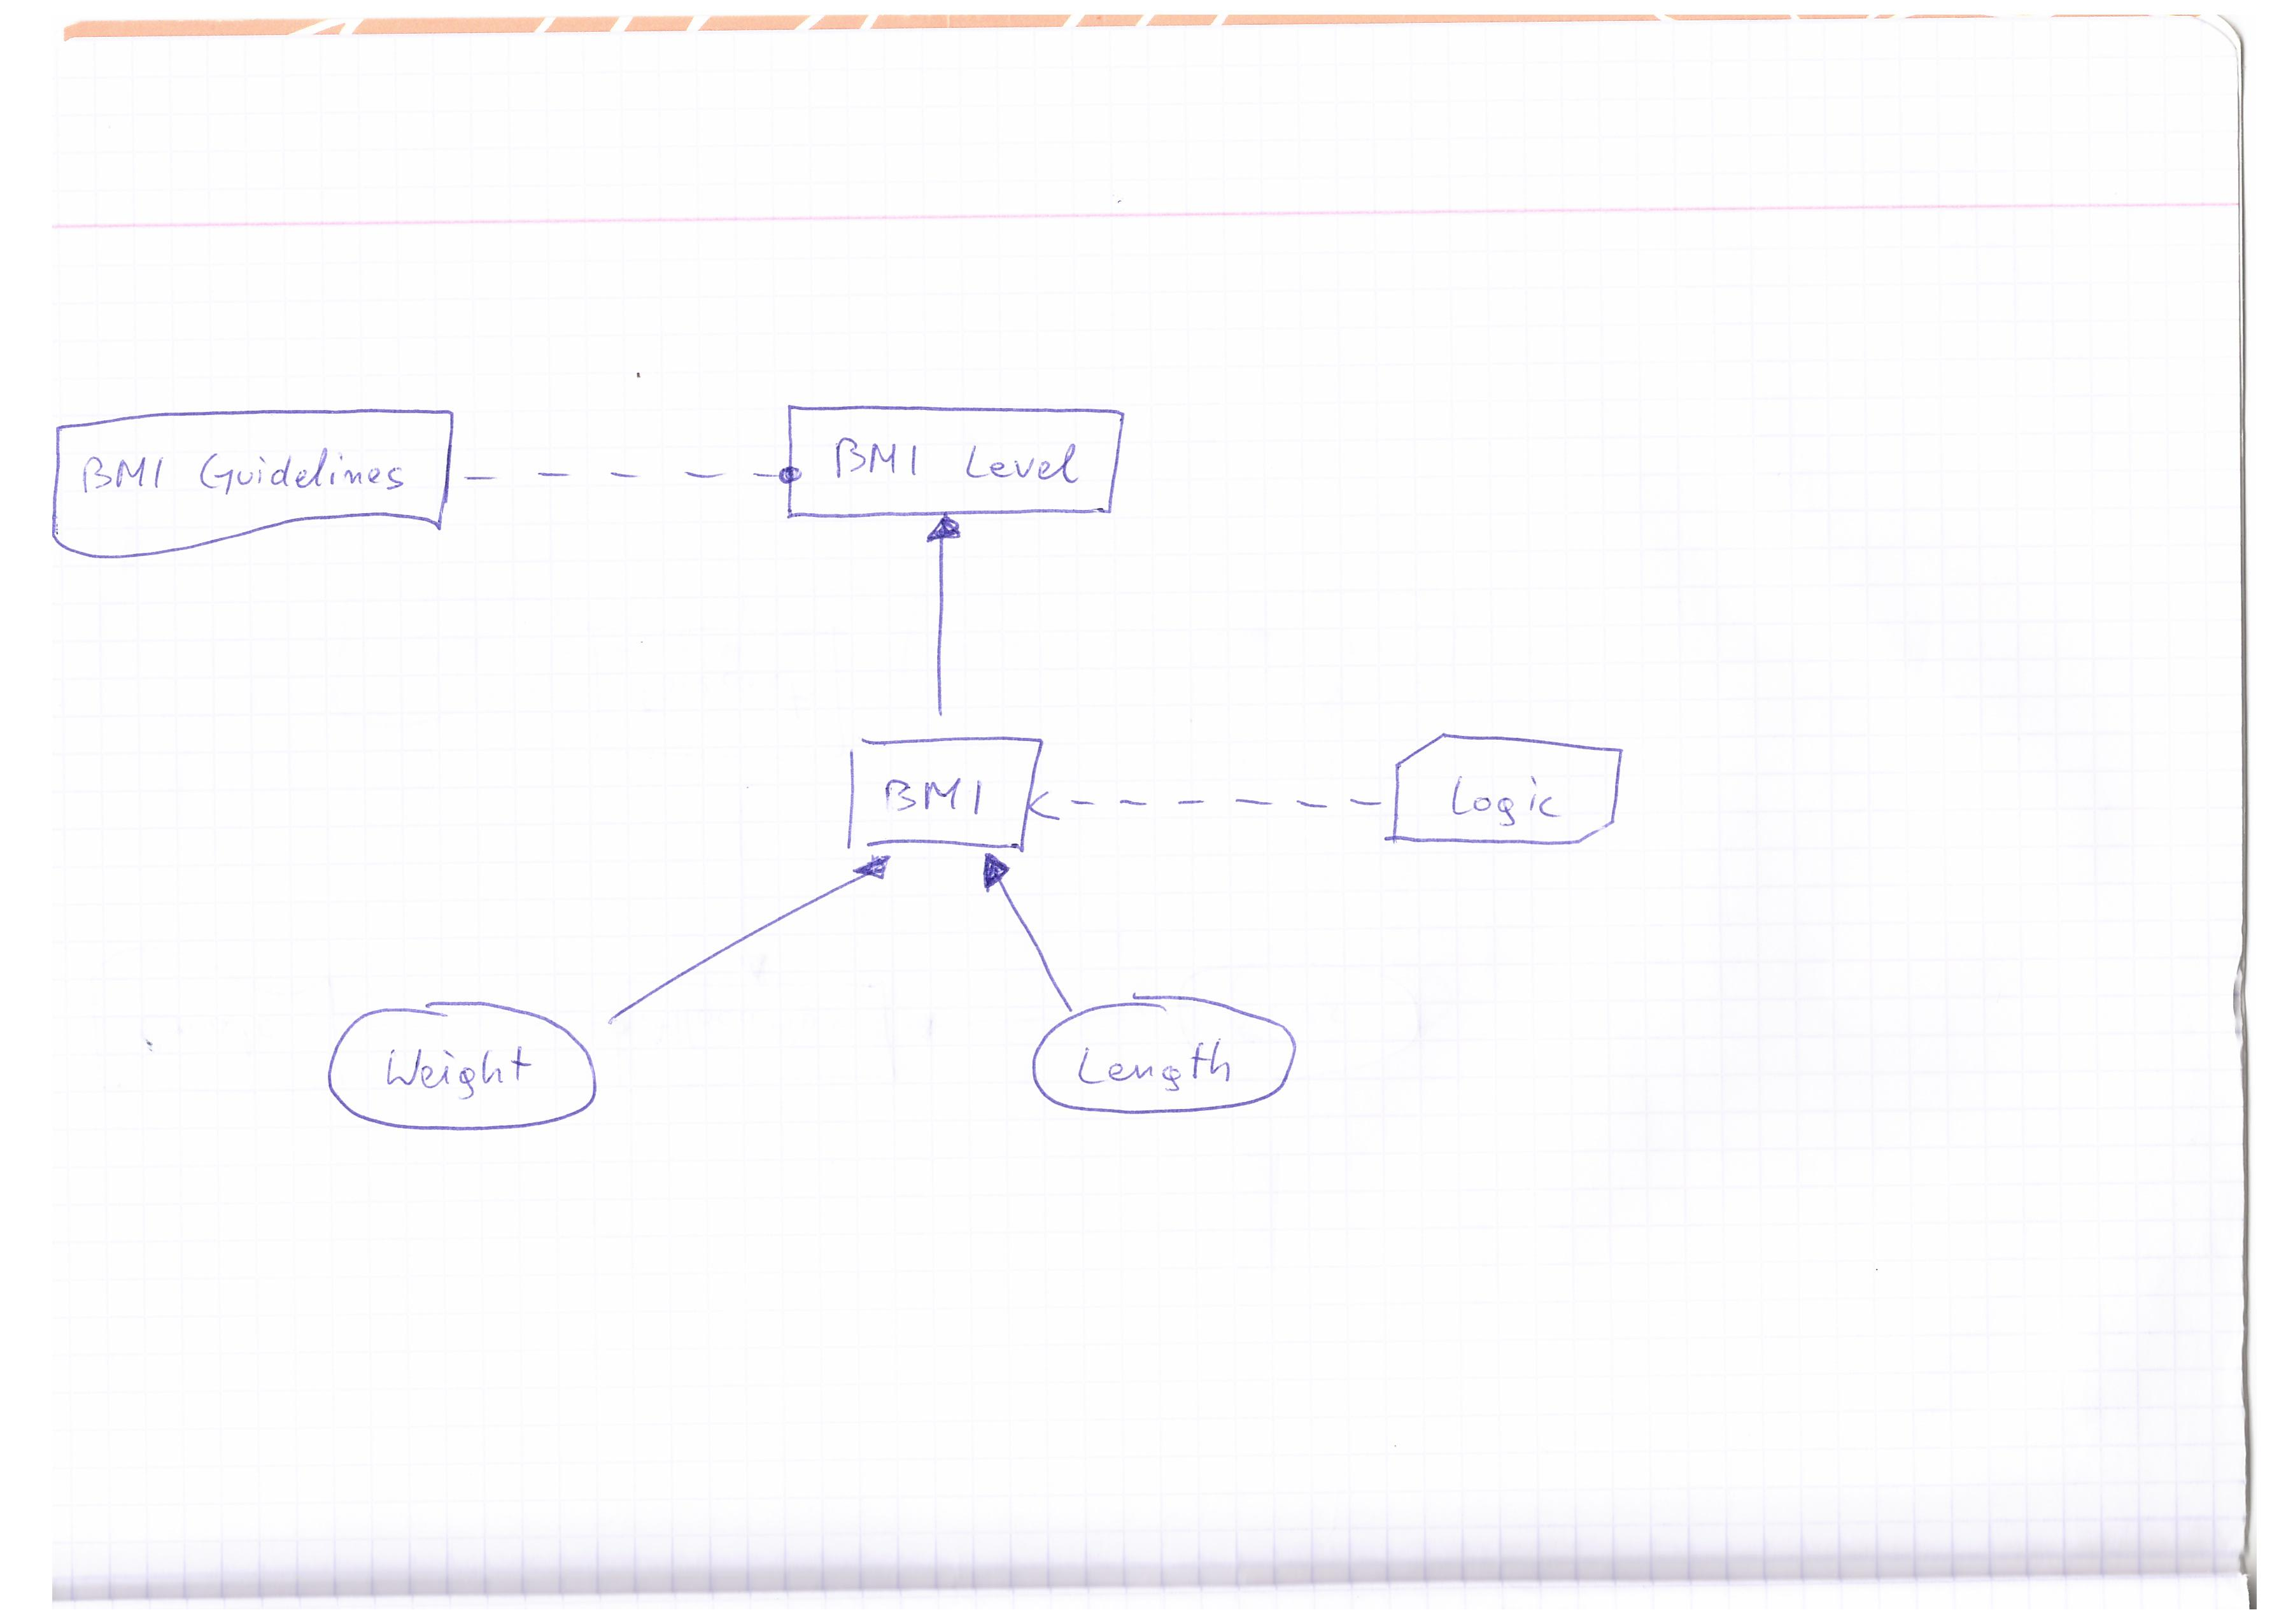arrow_authority_requirement: (445, 452, 807, 497)
arrow_information_requirement: (601, 847, 903, 1033), (954, 847, 1082, 1023), (914, 510, 968, 722)
arrow_knowledge_requirement: (1021, 777, 1390, 833)
node_decision: (773, 392, 1135, 527), (828, 724, 1042, 852)
node_input_data: (1005, 982, 1314, 1144), (311, 986, 615, 1144)
node_knowledge_model: (1388, 722, 1643, 861)
node_knowledge_source: (42, 399, 464, 566)
text: (69, 432, 409, 506), (826, 425, 1102, 501), (364, 1030, 543, 1111), (1063, 1035, 1249, 1100), (1429, 761, 1569, 838), (872, 756, 996, 828)
